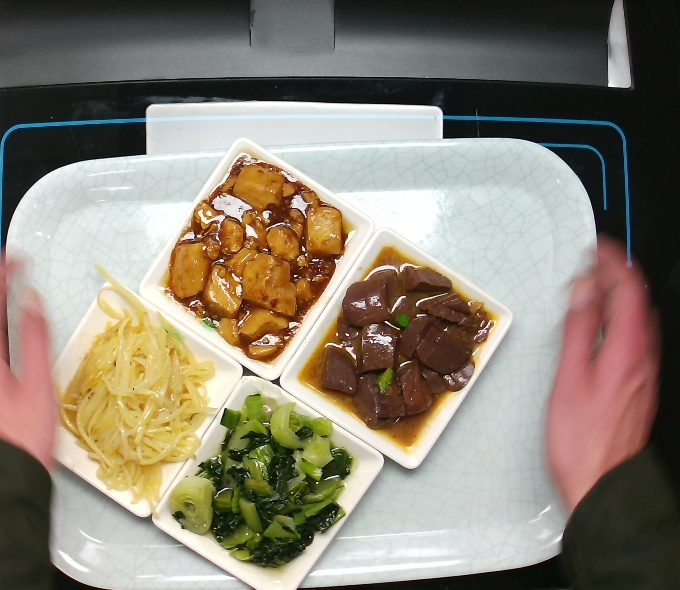wcq-MaPoDouFu: (162, 173, 356, 344)
wcq-NiuXue: (308, 260, 502, 431)
wcq-TuDouSi: (39, 328, 233, 499)
wcq-YouDongCai: (164, 402, 358, 573)
